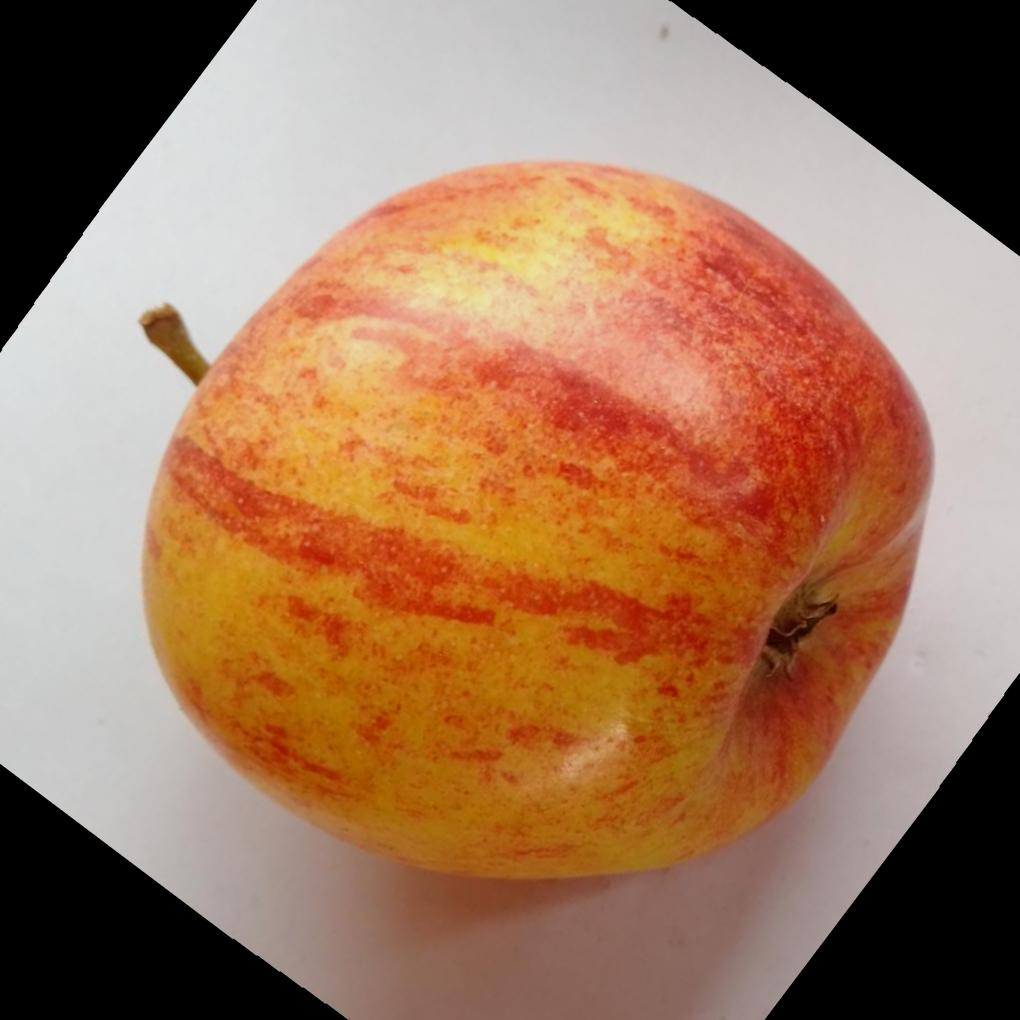FreshGuava: (140, 156, 939, 880)
